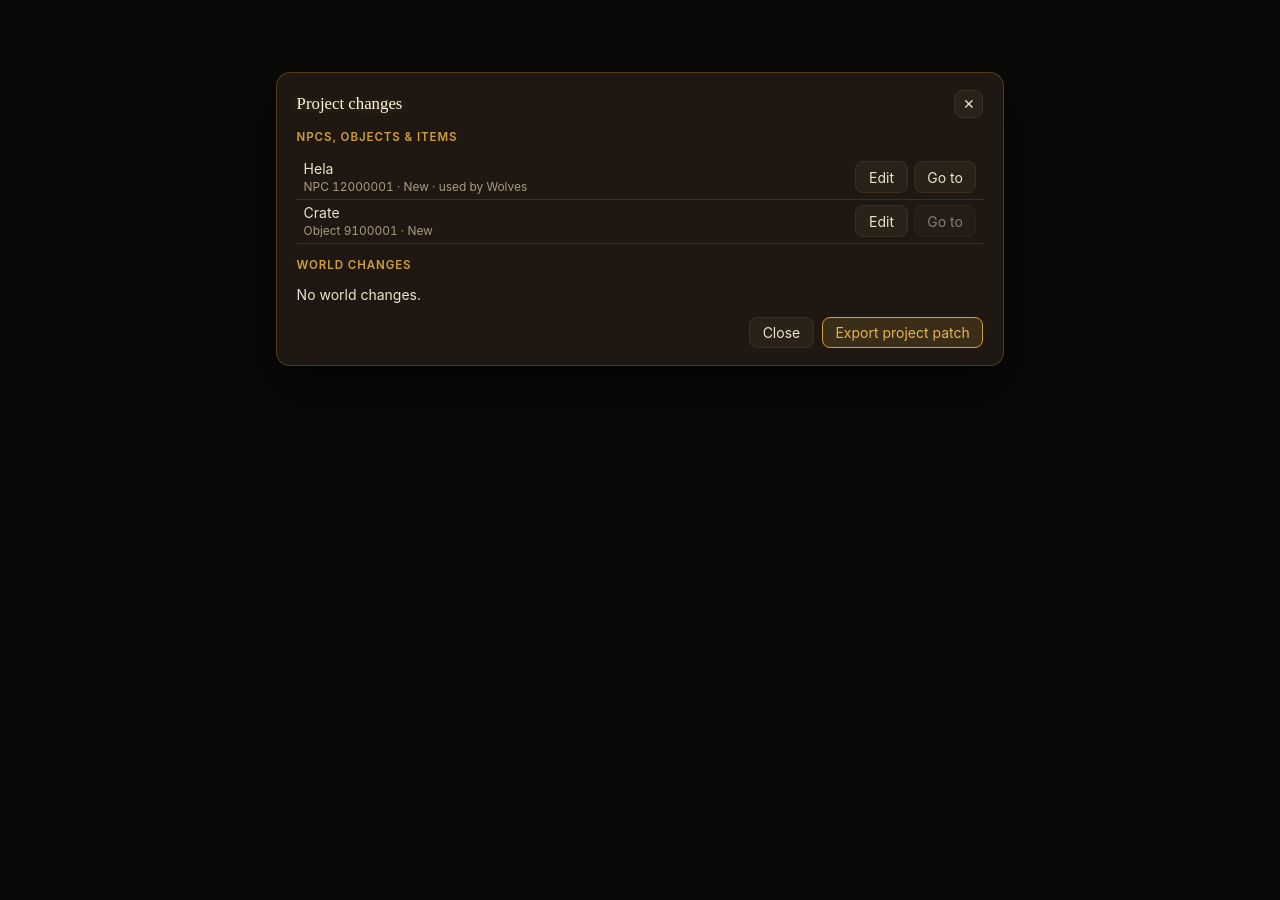
Test: Project changes › lists what to fix when the export is refused
Click the button "Export project patch" at (903, 333), box [822,317,983,348]
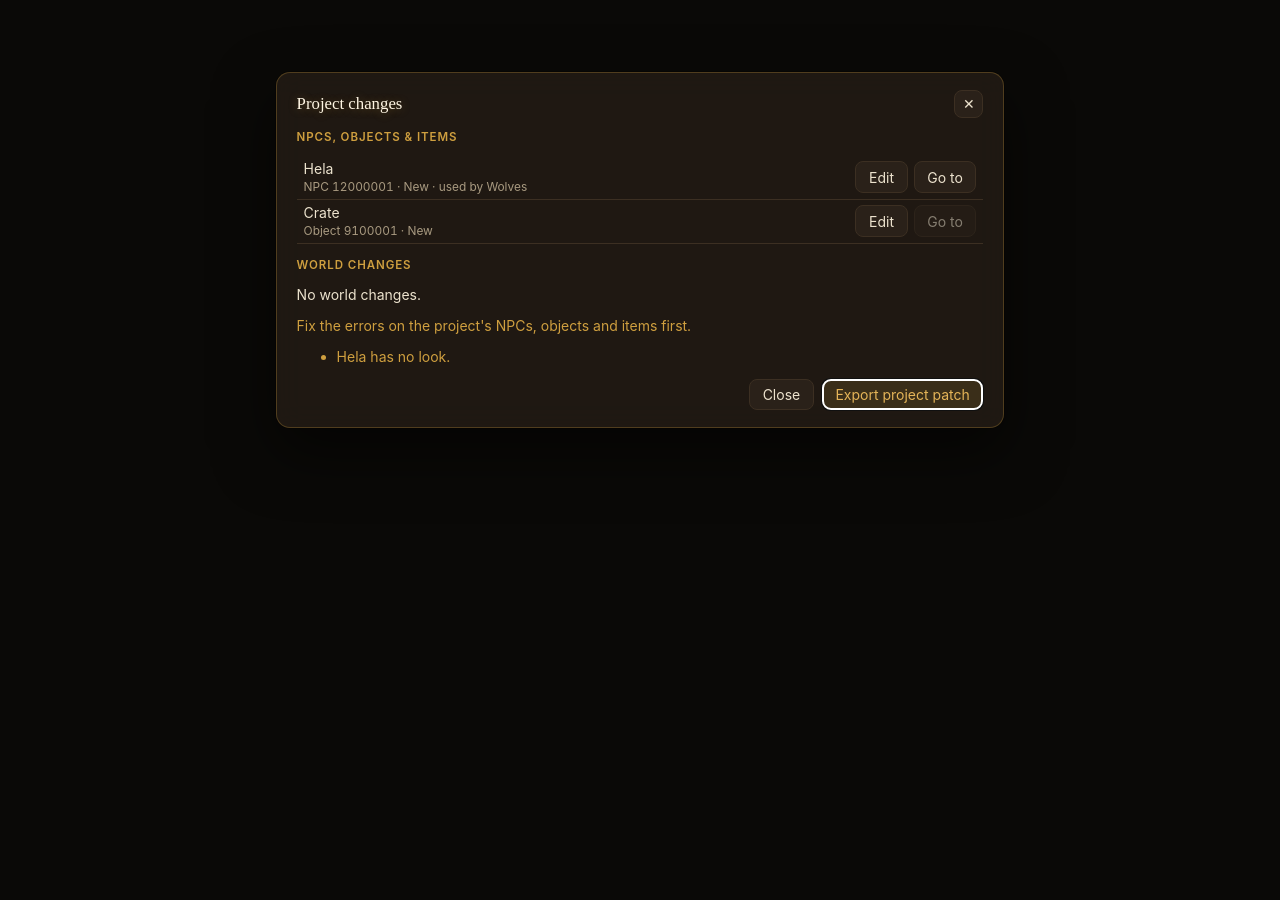
expect the list items read "Hela has no look.", in this order: met, box [337,348,450,365]
